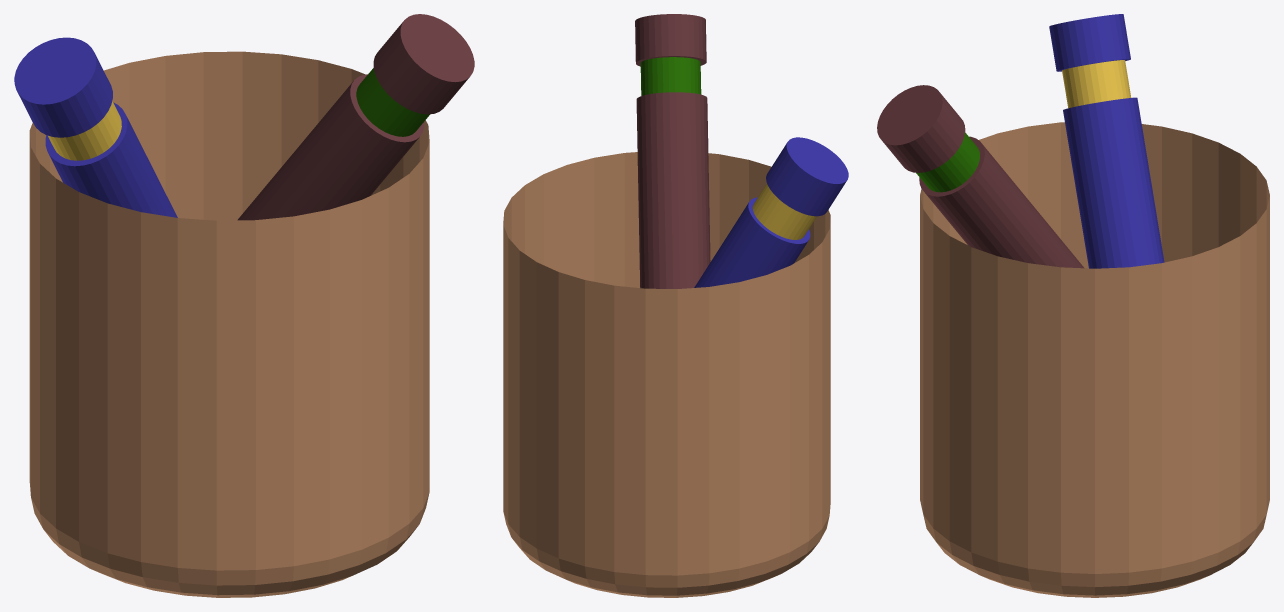
The model's file is pot_stylos.glb.
The picture shows the model from 3 angles, left to right: view 1: azimuth 30°, elevation 25°; view 2: azimuth 150°, elevation 25°; view 3: azimuth 270°, elevation 25°; orthographic projection. The views are drawn at different scales.
Parts seen in each view (by area): view 1: model; view 2: model; view 3: model.
Part boxes in pixels (x1,y1,x2,y2): model: (14,14,474,597); model: (503,14,848,597); model: (877,14,1269,597).
Size of the model in its own units: 0.8701 by 1.21 by 0.8788.
